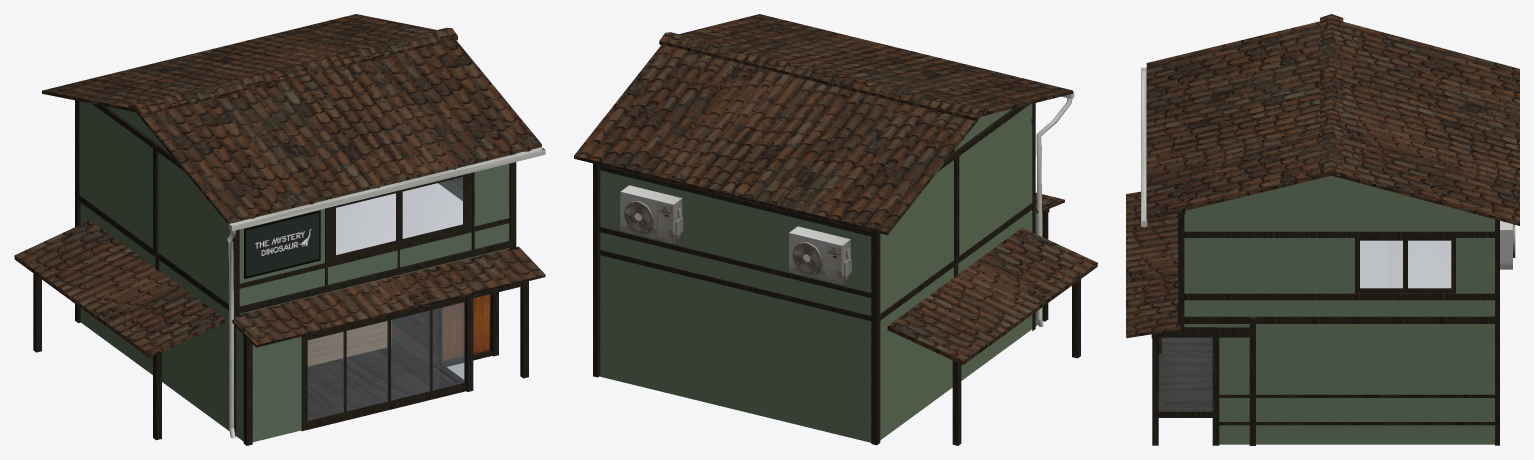
3 views of the same model, side by side, from view 1: azimuth 30°, elevation 25°; view 2: azimuth 150°, elevation 25°; view 3: azimuth 270°, elevation 25° (orthographic).
Parts seen in each view (by area): view 1: Box017, Plane001, Crate_Material #184_0; view 2: Box017, airco003_Material #63_0, airco002_Material #63_0; view 3: Box017, Plane001, airco003_Material #63_0.
Part boxes in pixels (x1,y1,x2,y2): Box017: [14, 14, 545, 445]; Plane001: [336, 183, 462, 254]; Crate_Material #184_0: [244, 210, 320, 278]; Box017: [574, 14, 1097, 445]; airco003_Material #63_0: [620, 185, 683, 243]; airco002_Material #63_0: [789, 226, 851, 284]; Box017: [1126, 14, 1519, 445]; Plane001: [1360, 240, 1451, 288]; airco003_Material #63_0: [1500, 221, 1515, 269].
Size of the model in its own units: 849 by 622 by 783.
13 materials, 11 textured.
